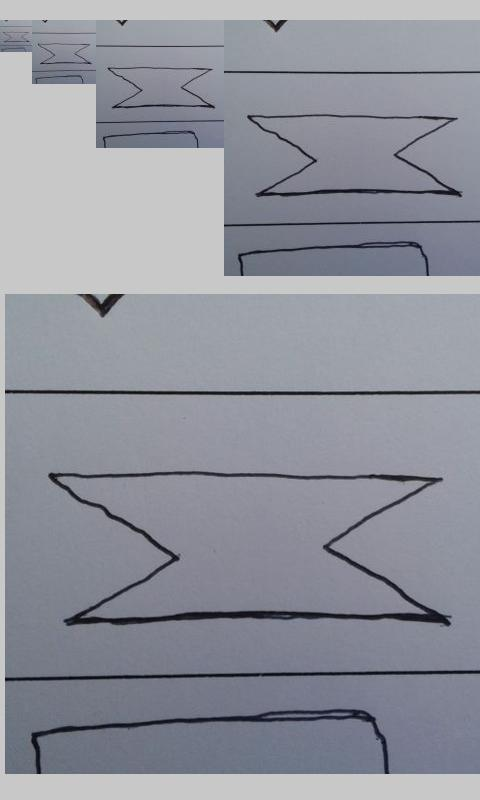edit_text: (42, 468, 453, 625), (245, 114, 462, 197), (108, 66, 214, 108), (37, 43, 91, 65), (3, 31, 30, 43)
